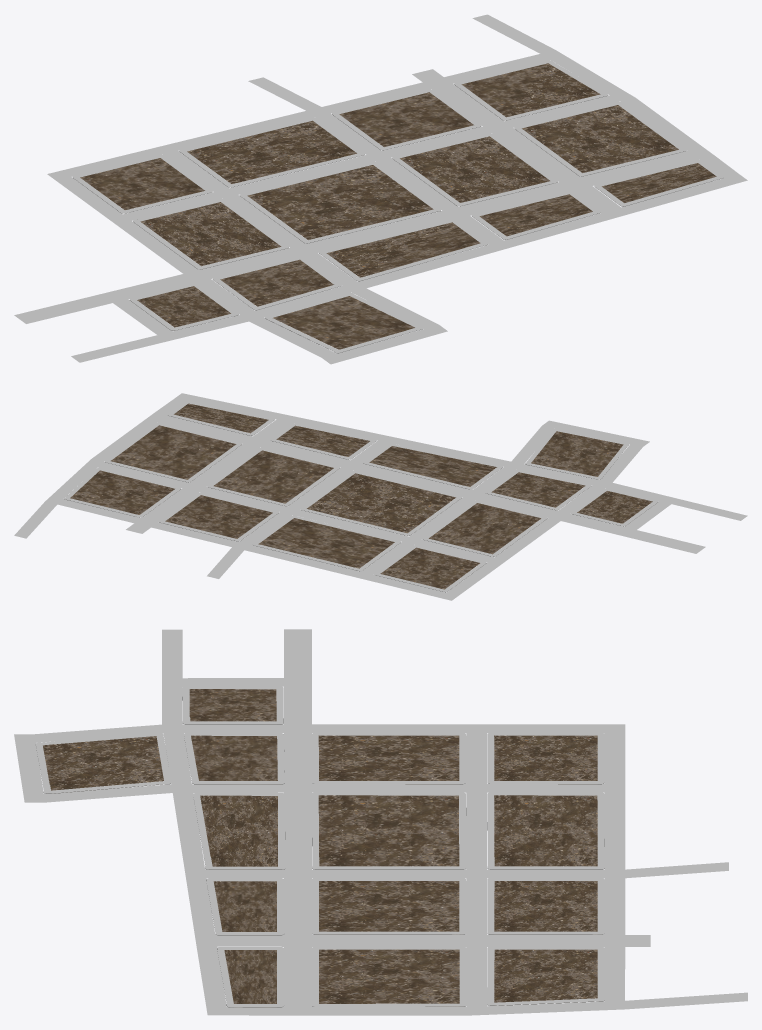
The model's file is roads def 2.fbx.
3 views of the same model, one above another, from view 1: azimuth 30°, elevation 25°; view 2: azimuth 150°, elevation 25°; view 3: azimuth 270°, elevation 25° (orthographic). The views are drawn at different scales.
Visible parts, largest first — view 1: Plane.001, Plane.004, Circle.002, Plane.002, Circle.001, Plane.005, Circle.008, Circle.009, Plane.009, Plane.006, Plane.003, Plane.007 (+3 smaller); view 2: Plane.001, Plane.004, Circle.002, Plane.002, Circle.001, Plane.005, Circle.008, Circle.009, Plane.006, Plane.009, Plane.003, Plane.007 (+3 smaller); view 3: Plane.001, Plane.004, Circle.002, Plane.002, Circle.001, Plane.005, Circle.008, Plane.009, Circle.009, Plane.006, Plane.003, Plane.007 (+3 smaller).
Part boxes in pixels (x1=…): Plane.001: x1=14, y1=14, x2=747, y2=364; Plane.004: x1=239, y1=161, x2=441, y2=243; Circle.002: x1=514, y1=102, x2=686, y2=176; Plane.002: x1=179, y1=117, x2=364, y2=187; Circle.001: x1=392, y1=133, x2=557, y2=206; Plane.005: x1=133, y1=199, x2=288, y2=269; Circle.008: x1=454, y1=60, x2=607, y2=120; Circle.009: x1=332, y1=89, x2=481, y2=150; Plane.009: x1=265, y1=292, x2=423, y2=353; Plane.006: x1=319, y1=219, x2=488, y2=281; Plane.003: x1=72, y1=154, x2=212, y2=213; Plane.007: x1=212, y1=256, x2=341, y2=310; Plane.001: x1=14, y1=393, x2=747, y2=600; Plane.004: x1=300, y1=470, x2=461, y2=535; Circle.002: x1=104, y1=422, x2=242, y2=482; Plane.002: x1=252, y1=515, x2=400, y2=571; Circle.001: x1=207, y1=448, x2=340, y2=506; Plane.005: x1=422, y1=500, x2=547, y2=556; Circle.008: x1=64, y1=468, x2=181, y2=517; Circle.009: x1=159, y1=492, x2=279, y2=541; Plane.006: x1=363, y1=443, x2=502, y2=489; Plane.009: x1=525, y1=428, x2=629, y2=479; Plane.003: x1=374, y1=545, x2=486, y2=592; Plane.007: x1=485, y1=469, x2=591, y2=510; Plane.001: x1=14, y1=629, x2=747, y2=1015; Plane.004: x1=312, y1=792, x2=466, y2=869; Circle.002: x1=312, y1=946, x2=466, y2=1006; Plane.002: x1=487, y1=792, x2=604, y2=869; Circle.001: x1=312, y1=878, x2=466, y2=934; Plane.005: x1=312, y1=732, x2=466, y2=784; Circle.008: x1=487, y1=946, x2=604, y2=1005; Plane.009: x1=35, y1=733, x2=171, y2=793; Circle.009: x1=487, y1=878, x2=604, y2=934; Plane.006: x1=193, y1=793, x2=285, y2=869; Plane.003: x1=487, y1=732, x2=604, y2=784; Plane.007: x1=184, y1=733, x2=284, y2=784.
Size of the model in its own units: 39260 by 32.01 by 48905.
